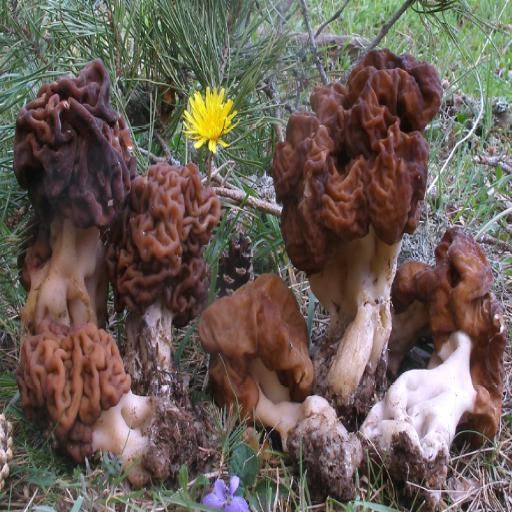mushroom: (10, 52, 229, 491), (270, 36, 447, 417), (201, 277, 375, 499), (384, 225, 509, 497)
